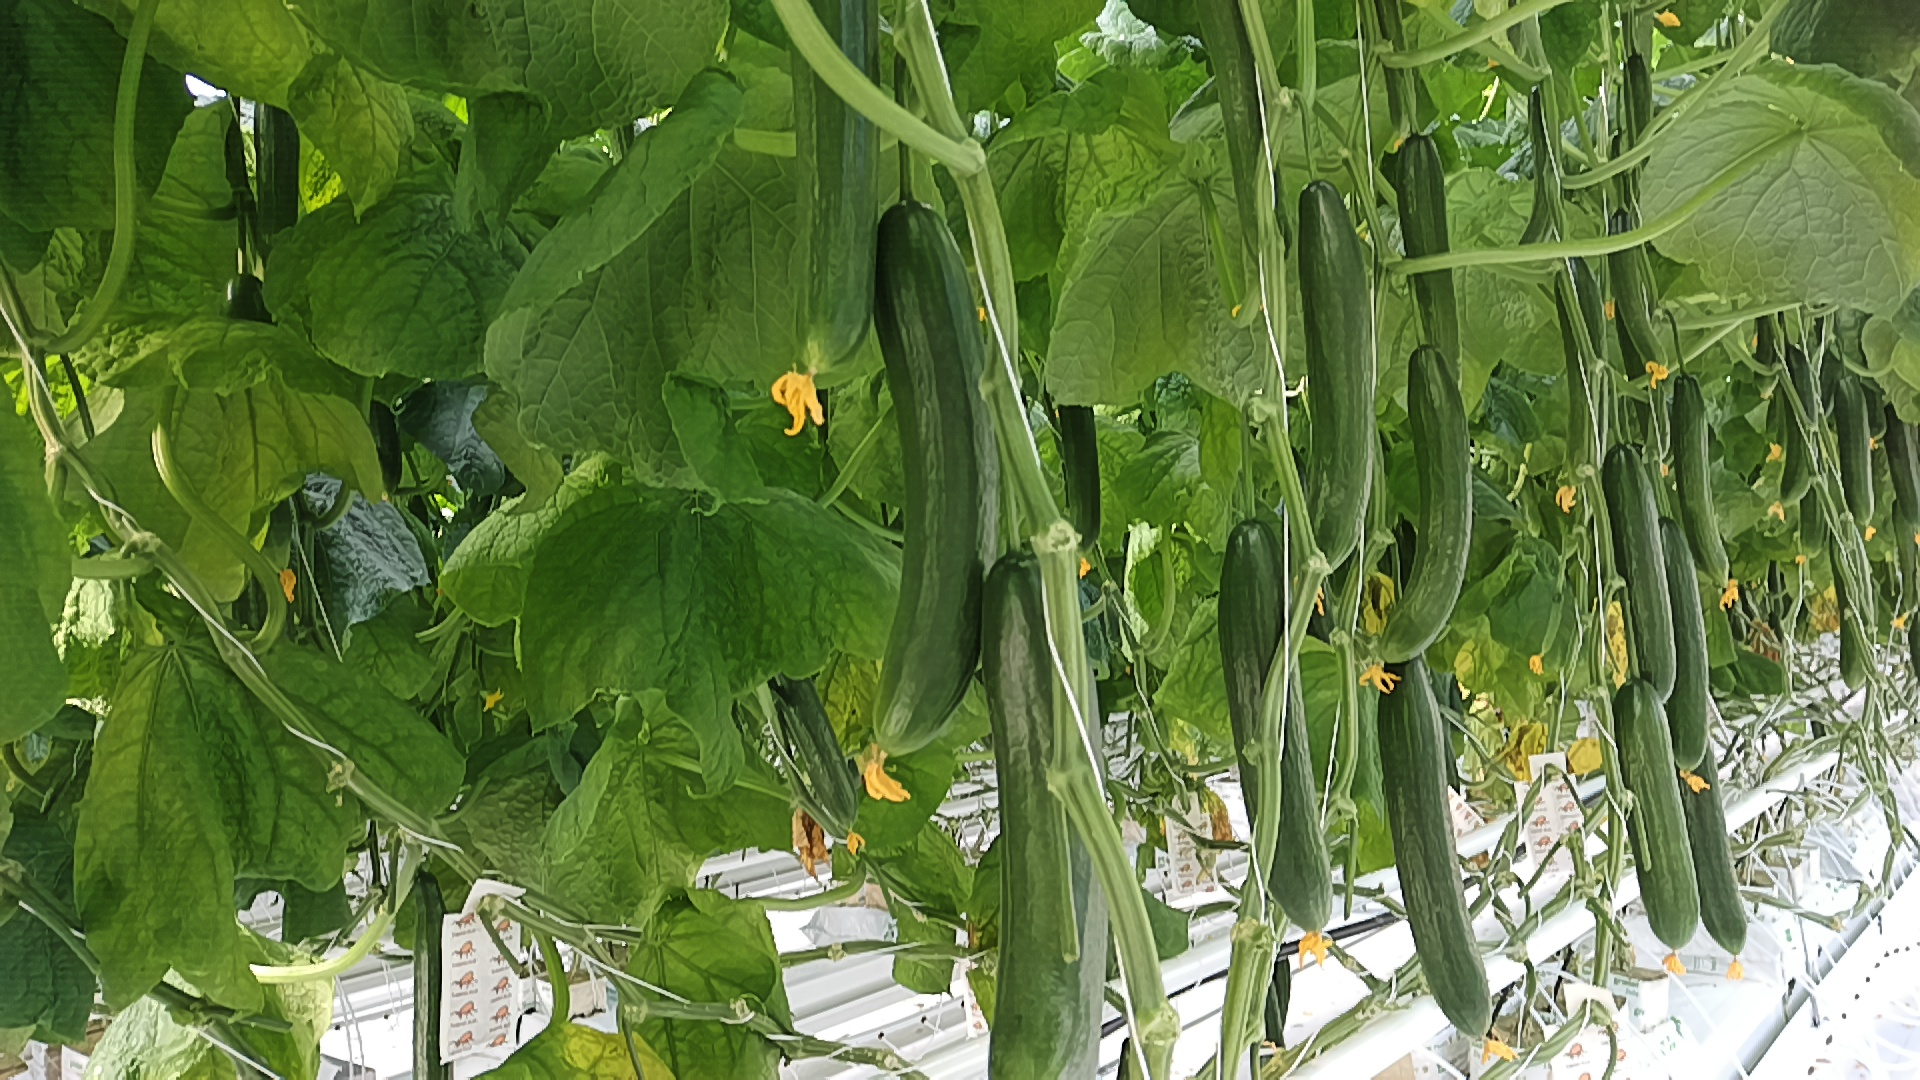gurka: (843, 193, 1010, 778), (1207, 487, 1366, 949), (1364, 630, 1509, 1040), (1279, 179, 1395, 595), (1367, 353, 1482, 682), (1600, 671, 1701, 955), (1389, 120, 1484, 407), (1658, 357, 1750, 593), (1605, 438, 1684, 712), (1596, 195, 1685, 390), (1821, 365, 1888, 541), (1824, 512, 1882, 692)
